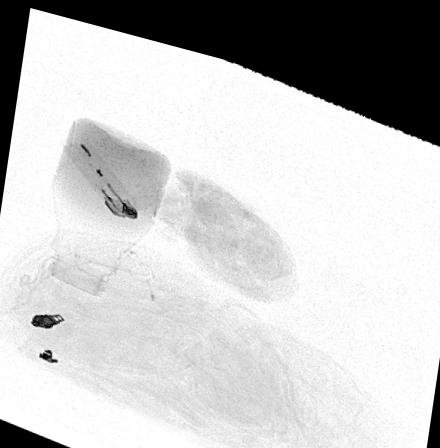Lighter: (62, 138, 139, 212)
